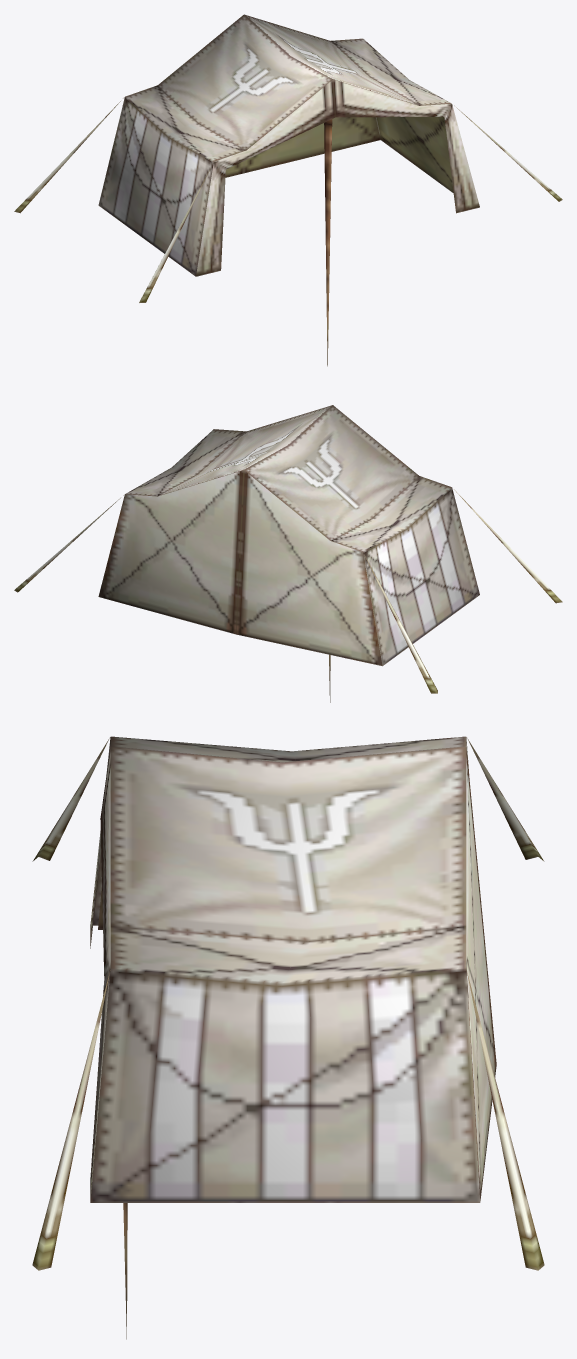
The model's file is tenda_nomade_base.glb.
3 renders of one model, top to bottom at view 1: azimuth 30°, elevation 25°; view 2: azimuth 150°, elevation 25°; view 3: azimuth 270°, elevation 25°, orthographic. The views are drawn at different scales.
Parts seen in each view (by area): view 1: MeshRoot; view 2: MeshRoot; view 3: MeshRoot.
Part boxes in pixels (left/top/right/bottom): MeshRoot: left=14, top=14, right=562, bottom=366; MeshRoot: left=14, top=405, right=562, bottom=702; MeshRoot: left=32, top=736, right=544, bottom=1339.
Size of the model in its own units: 6.06 by 4.09 by 3.17.
2 materials, 2 textured.
